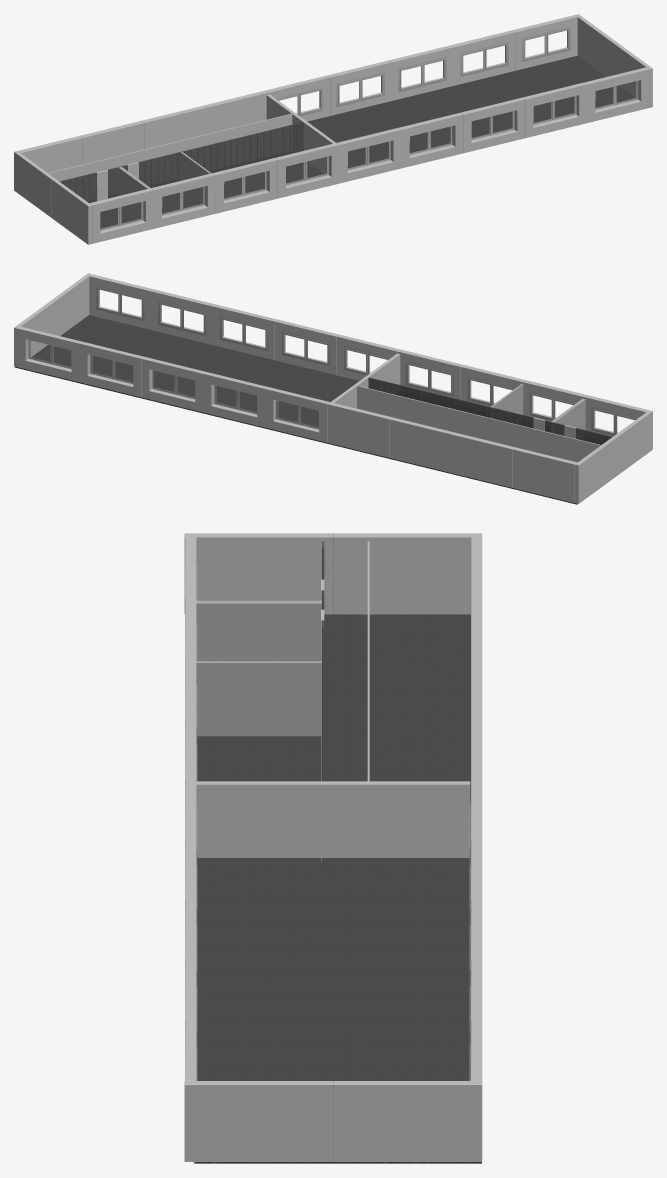
File: room.FBX
3 renders of one model, top to bottom at view 1: azimuth 30°, elevation 25°; view 2: azimuth 150°, elevation 25°; view 3: azimuth 270°, elevation 25°, orthographic. The views are drawn at different scales.
Visible parts, largest first — view 1: Floor, Wall (×2), HallWayWall, Wall006, WallWindow007, WallWindow005, WallWindow006, WallWindow004, WallWindow003, Wall007, WallWindow001, WallWindow010 (+14 smaller); view 2: Floor, HallWayWall, Wall (×2), Wall007, Wall005, Wall006, WallWindow016, WallWindow018, WallWindow017, WallWindow019, WallWindow015, Wall002 (+15 smaller); view 3: Floor, RightWall001, Wall008, Wall009, Wall002, LeftWall, Wall, RightWall.
Part boxes in pixels (x1=…): Floor: x1=100, y1=55, x2=635, y2=228; Wall (×2): x1=51, y1=120, x2=144, y2=244; HallWayWall: x1=48, y1=113, x2=293, y2=181; Wall006: x1=142, y1=105, x2=206, y2=149; WallWindow007: x1=337, y1=127, x2=401, y2=183; WallWindow005: x1=523, y1=82, x2=587, y2=137; WallWindow006: x1=399, y1=112, x2=463, y2=168; WallWindow004: x1=461, y1=97, x2=525, y2=153; WallWindow003: x1=275, y1=143, x2=339, y2=198; Wall007: x1=204, y1=90, x2=268, y2=134; WallWindow001: x1=89, y1=188, x2=153, y2=243; WallWindow010: x1=585, y1=67, x2=648, y2=122; Floor: x1=14, y1=315, x2=577, y2=504; HallWayWall: x1=356, y1=385, x2=600, y2=462; Wall (×2): x1=451, y1=410, x2=652, y2=487; Wall007: x1=327, y1=402, x2=391, y2=457; Wall005: x1=513, y1=447, x2=577, y2=502; Wall006: x1=389, y1=417, x2=453, y2=472; WallWindow016: x1=203, y1=372, x2=267, y2=427; WallWindow018: x1=79, y1=341, x2=143, y2=397; WallWindow017: x1=141, y1=356, x2=205, y2=412; WallWindow019: x1=17, y1=326, x2=81, y2=382; WallWindow015: x1=265, y1=387, x2=329, y2=442; Wall002: x1=575, y1=437, x2=615, y2=503; Floor: x1=194, y1=614, x2=481, y2=1163; RightWall001: x1=196, y1=781, x2=470, y2=857; Wall008: x1=184, y1=1081, x2=333, y2=1161; Wall009: x1=333, y1=1081, x2=482, y2=1161; Wall002: x1=333, y1=533, x2=482, y2=614; LeftWall: x1=196, y1=661, x2=321, y2=736; Wall: x1=184, y1=533, x2=333, y2=614; RightWall: x1=196, y1=600, x2=321, y2=661.
Bounding box in the file's own units: 5730 × 386 × 1307.
